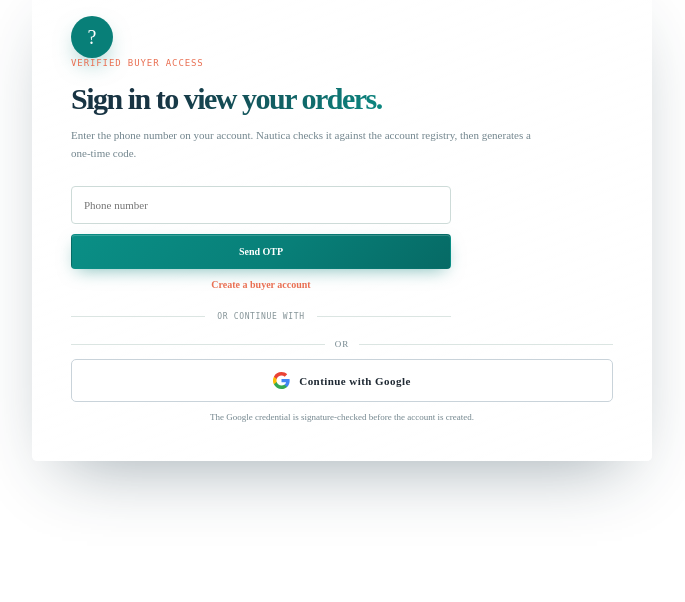
Test: registration is blocked until the terms checkbox is accepted
Later steps or results of the test are not shown.
Click the button "Create a buyer account". click: (261, 285)
box: x1=71 y1=279 x2=451 y2=290
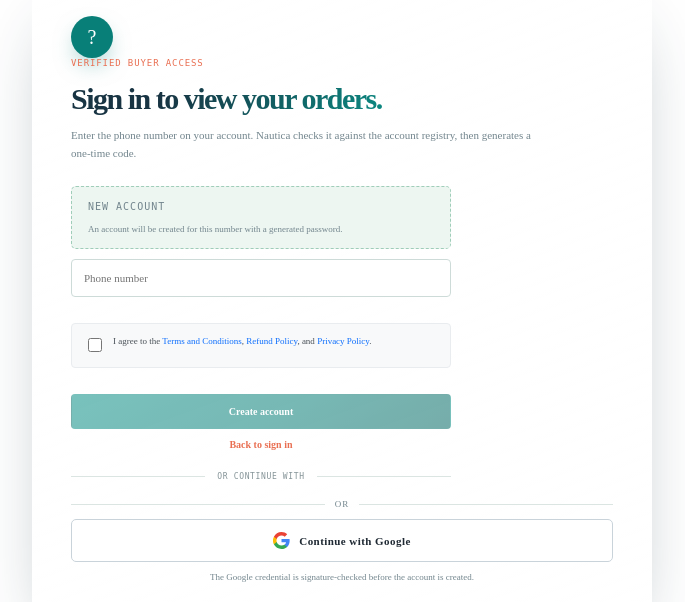
Expected: the button "Create account" is disabled, x1=71 y1=394 x2=451 y2=429
Click the checkbox. click: (95, 345)
box: x1=88 y1=338 x2=102 y2=352
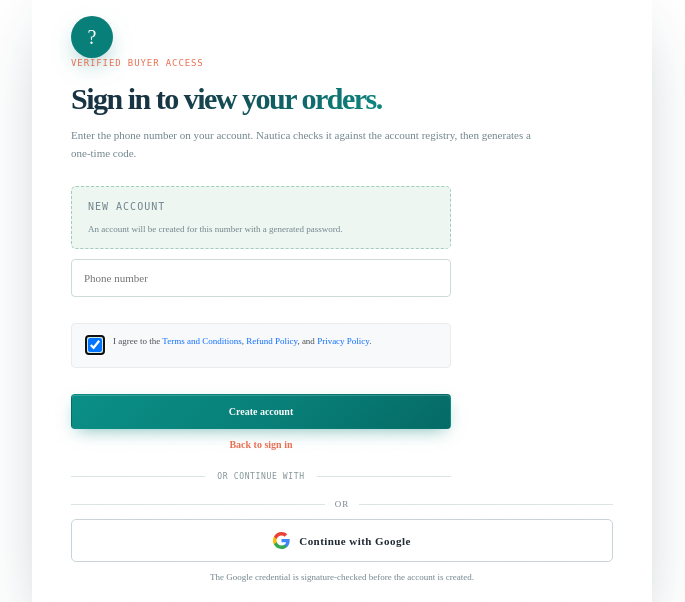
Expected: the button "Create account" is enabled, x1=71 y1=394 x2=451 y2=429
